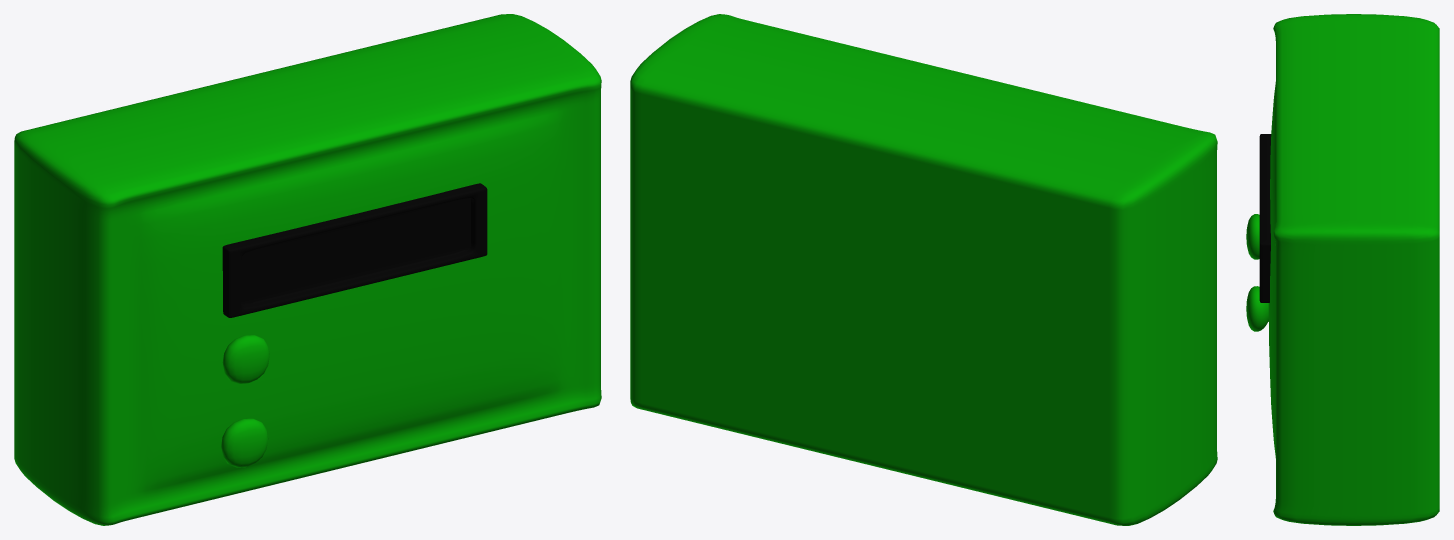
Rendered from Radio.fbx.
3 views of the same model, side by side, from view 1: azimuth 30°, elevation 25°; view 2: azimuth 150°, elevation 25°; view 3: azimuth 270°, elevation 25° (orthographic). The views are drawn at different scales.
Visible parts, largest first — view 1: Radio1; view 2: Radio1; view 3: Radio1.
Boxes of the visible parts, <box> form: Radio1: <box>14,14,601,525</box>; Radio1: <box>630,14,1217,525</box>; Radio1: <box>1246,14,1439,525</box>.
Size of the model in its own units: 158 by 99.69 by 58.47.
